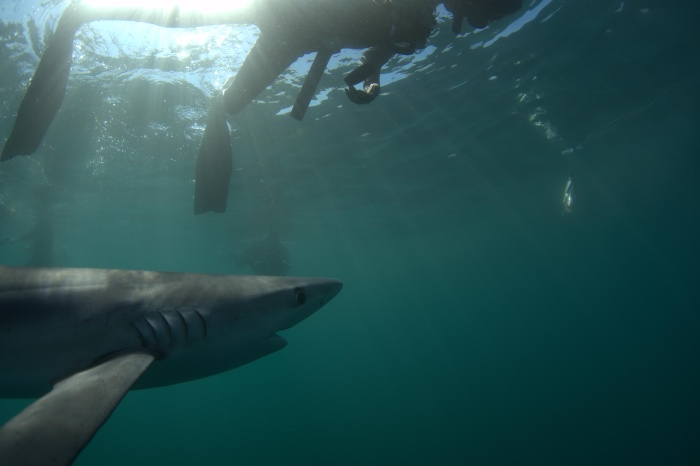Azul: (10, 235, 363, 466)
